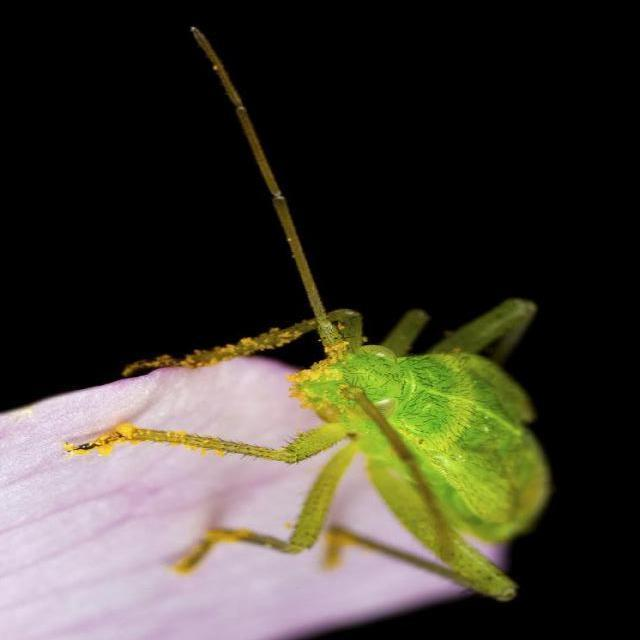aphid: (108, 294, 550, 580)
